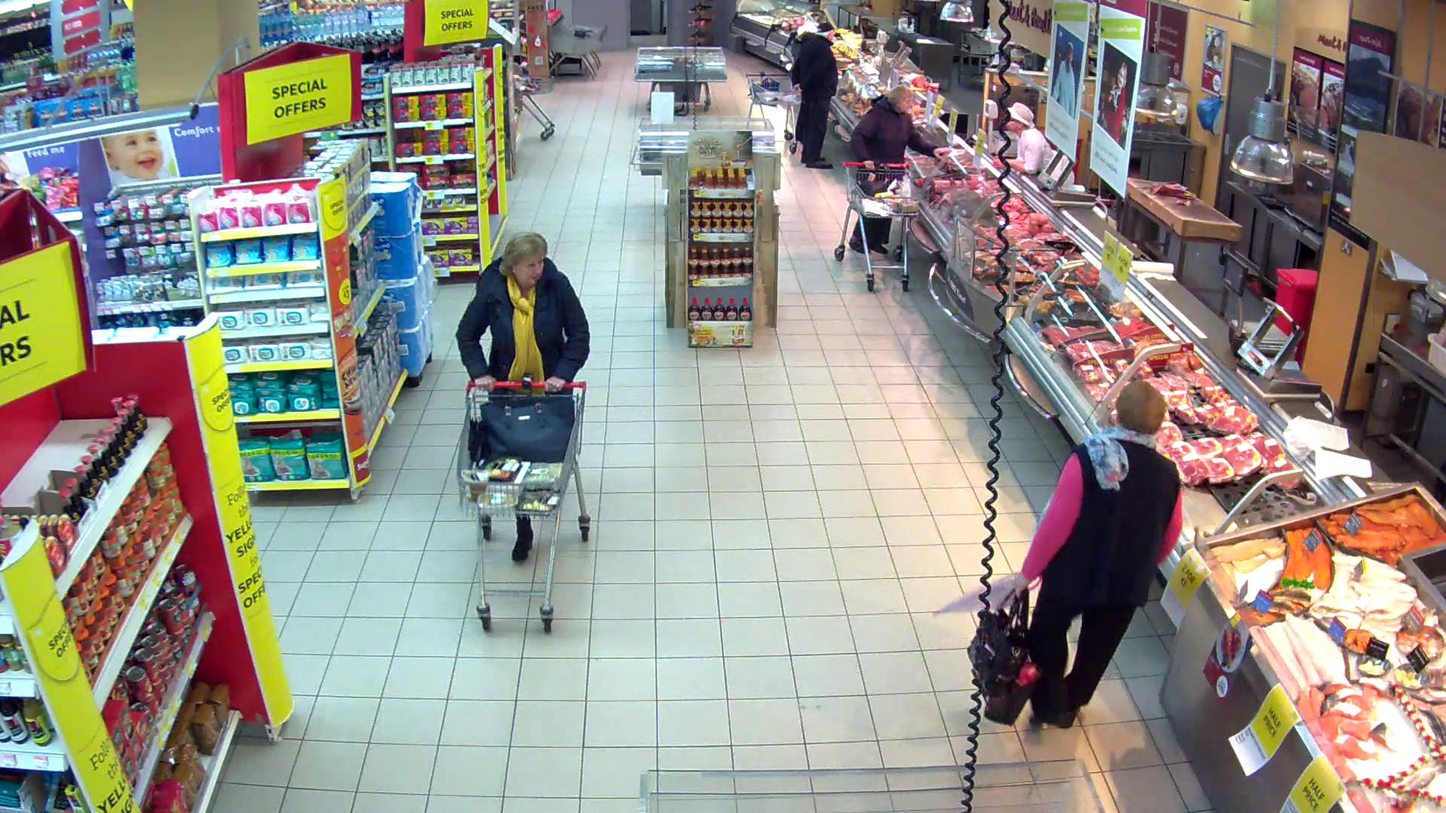backpack-or-handbag: (967, 586, 1024, 694), (480, 396, 576, 460)
filled-shopping-bags: (983, 648, 1041, 726)
filled-trolly: (454, 379, 592, 633), (834, 161, 920, 291)
person: (1024, 382, 1182, 729), (455, 230, 591, 559), (849, 85, 952, 254)
person-with-backpack-handbag-and-carrying-item-s-: (967, 382, 1183, 731)
person-with-basket-trolly-and-backpack-handbag: (455, 229, 592, 634)
person-with-filled-basket-trolly: (834, 85, 951, 291)
